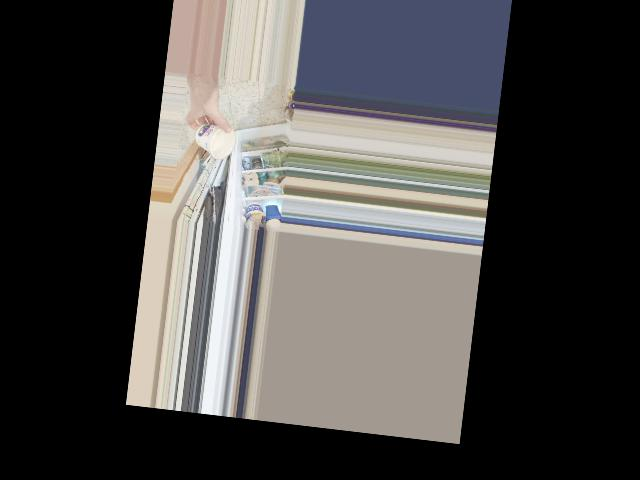cotage: (194, 123, 229, 157)
